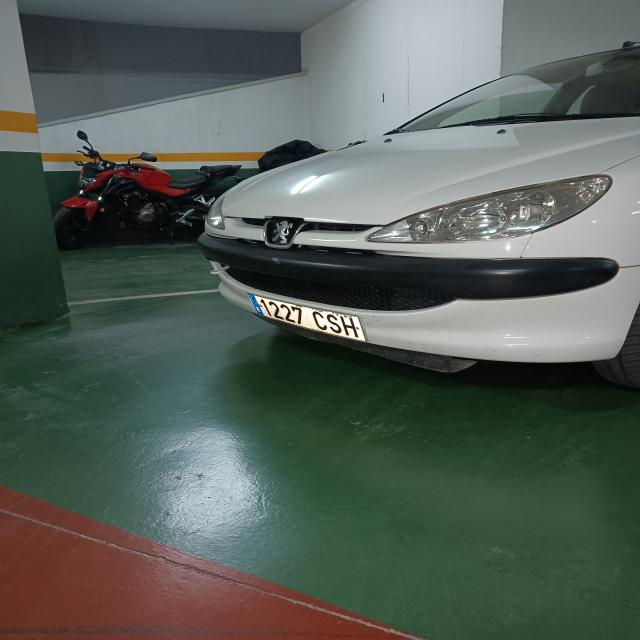license_plate-34Td: (249, 295, 366, 341)
